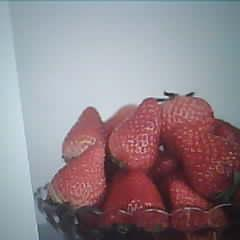straw-ripe: (176, 125, 240, 197), (108, 97, 160, 170), (52, 146, 106, 206)
